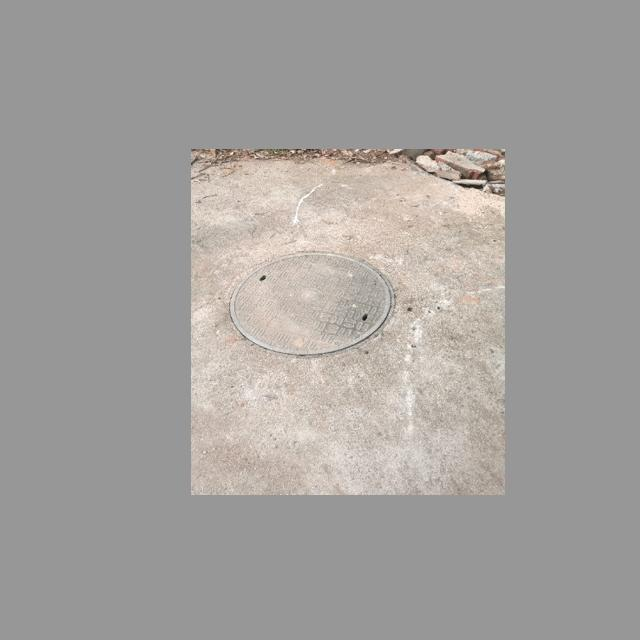good: (229, 252, 395, 357)
